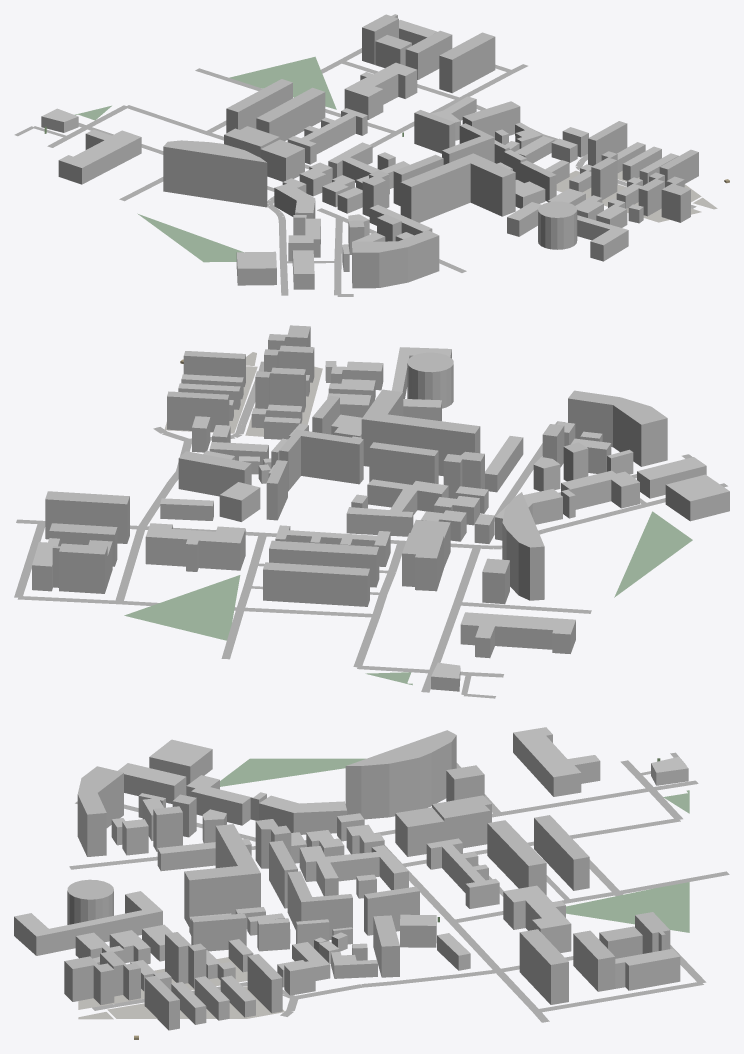
The picture shows the model from 3 angles, top to bottom: view 1: azimuth 30°, elevation 25°; view 2: azimuth 150°, elevation 25°; view 3: azimuth 270°, elevation 25°; orthographic projection. The views are drawn at different scales.
Bounding box in the file's own units: 564 × 50.9 × 586.
